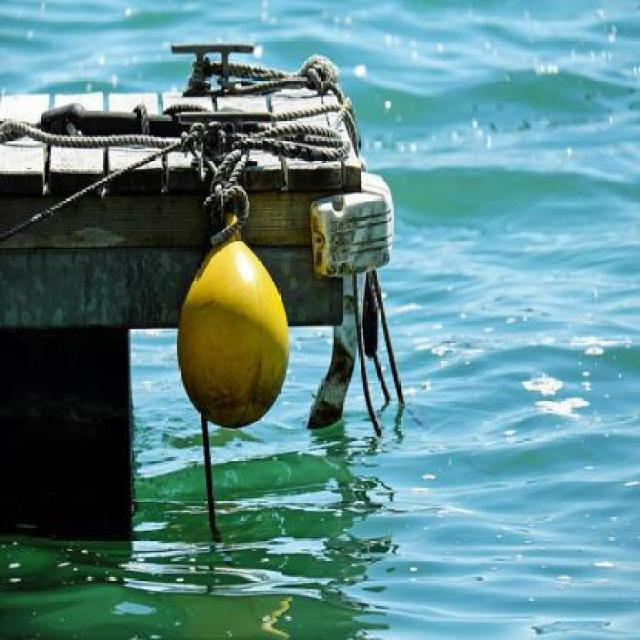a: (152, 23, 361, 259), (166, 178, 309, 439)
